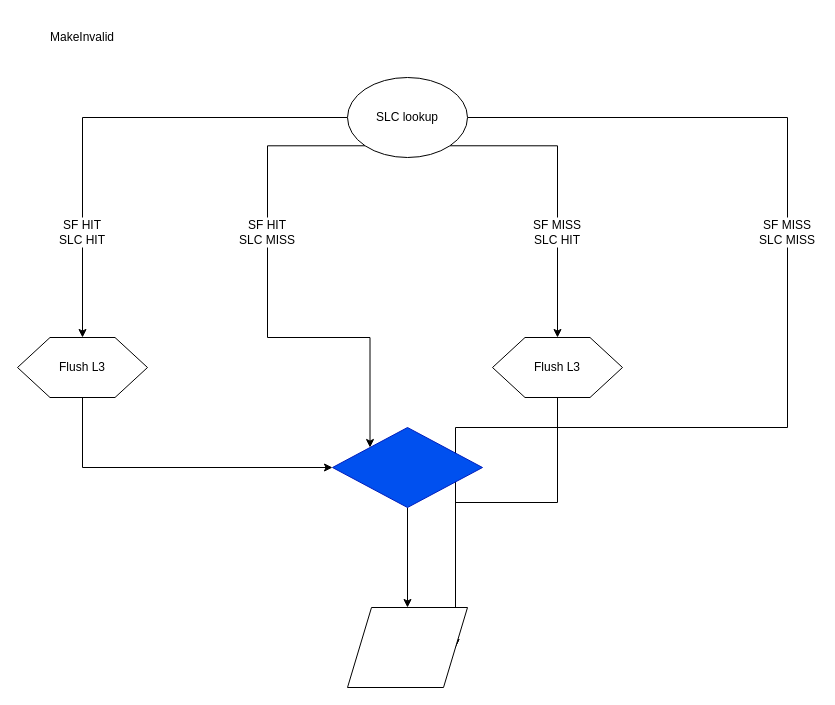
Image size: 835x705. Some labels were removed from this diagram. The centre of each missing label's shape, as x and y in pixels:
SnpMakeInvid Graph: pixel 407 467
TXCOMP: pixel 407 647
